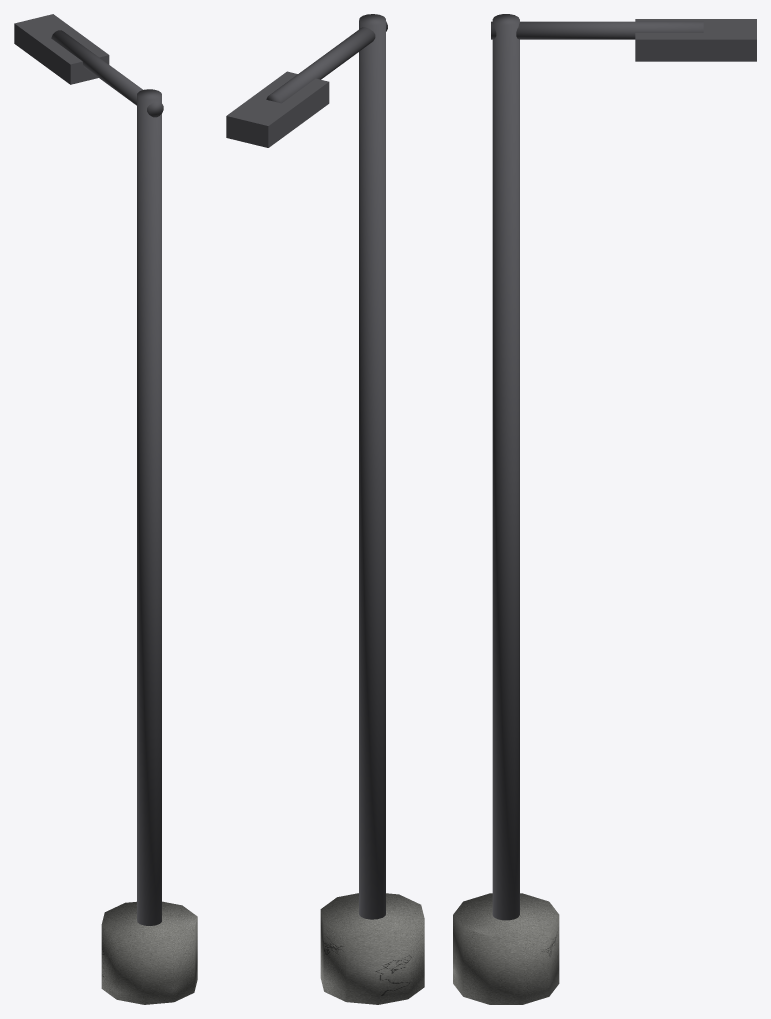
The model's file is WK_LGT_StreetLamp.glb.
3 views of the same model, side by side, from view 1: azimuth 30°, elevation 25°; view 2: azimuth 150°, elevation 25°; view 3: azimuth 270°, elevation 25° (orthographic). The views are drawn at different scales.
Visible parts, largest first — view 1: WK_LGT_StreetLamp_P01, WK_LGT_StreetLamp_P02, WK_LGT_StreetLamp_P04, WK_LGT_StreetLamp_P03; view 2: WK_LGT_StreetLamp_P01, WK_LGT_StreetLamp_P02, WK_LGT_StreetLamp_P04, WK_LGT_StreetLamp_P03; view 3: WK_LGT_StreetLamp_P01, WK_LGT_StreetLamp_P02, WK_LGT_StreetLamp_P04, WK_LGT_StreetLamp_P03.
Boxes of the visible parts, x1,y1,x2,y2 form: WK_LGT_StreetLamp_P01: (137,89,161,925); WK_LGT_StreetLamp_P02: (101,901,197,1004); WK_LGT_StreetLamp_P04: (14,14,109,84); WK_LGT_StreetLamp_P03: (51,30,163,117); WK_LGT_StreetLamp_P01: (359,14,385,919); WK_LGT_StreetLamp_P02: (320,893,424,1004); WK_LGT_StreetLamp_P04: (226,71,329,147); WK_LGT_StreetLamp_P03: (266,21,387,103); WK_LGT_StreetLamp_P01: (492,14,519,920); WK_LGT_StreetLamp_P02: (453,893,559,1004); WK_LGT_StreetLamp_P04: (635,19,756,61); WK_LGT_StreetLamp_P03: (491,21,703,39).
Size of the model in its own units: 0.6657 by 7 by 2.
3 materials, 1 textured.
